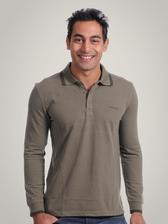clothoes: (22, 62, 148, 216)
